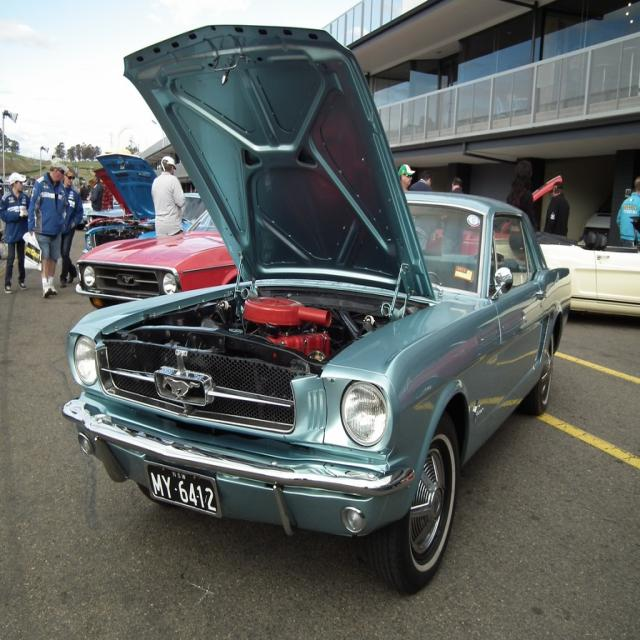car: (73, 60, 559, 584)
